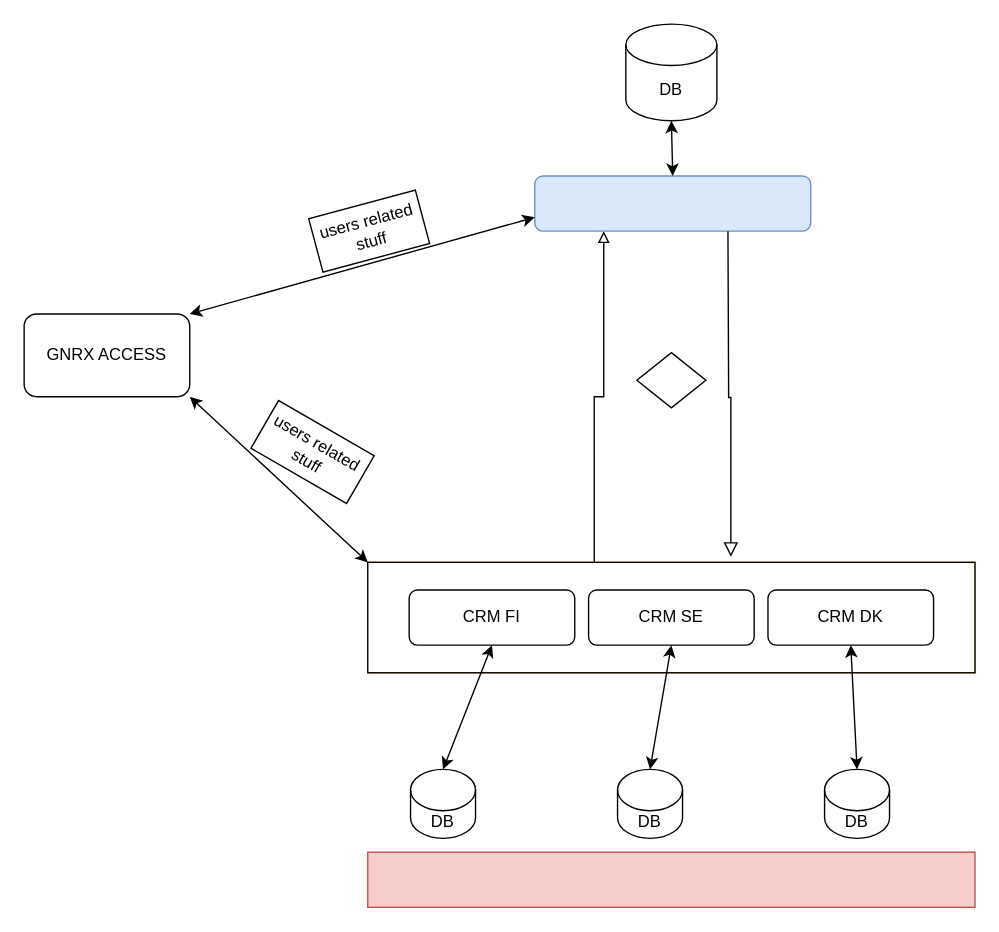
Image size: 999x932. Some labels were removed from this diagram. Here are the shapes that lost their labels. From the top down, the centre of each, then its label:
pixel 672 203: GNRX UNI
pixel 670 379: API
pixel 670 879: THE PLAN IS TO EVENTUALLY GET RID OF ALL CRM SPECIFIC DATABASES
